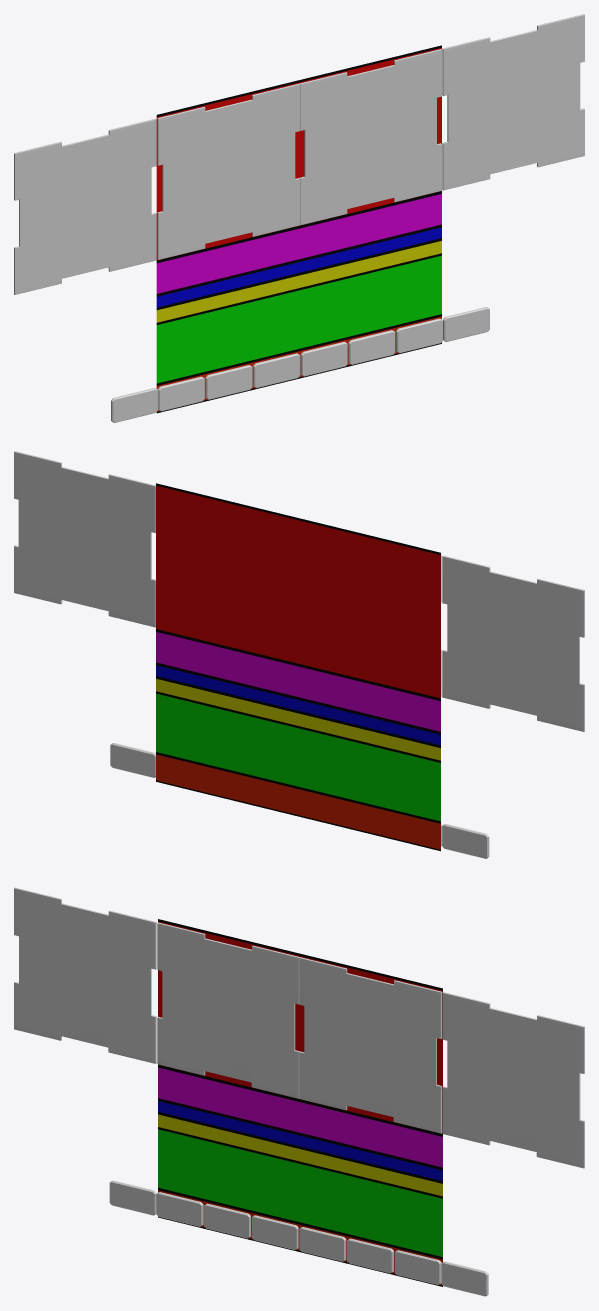
File: Trim_1_high.fbx
3 views of the same model, one above another, from view 1: azimuth 30°, elevation 25°; view 2: azimuth 150°, elevation 25°; view 3: azimuth 330°, elevation 25° (orthographic).
Parts seen in each view (by area): view 1: pPlane1, polySurface276, polySurface279, polySurface281, polySurface272, polySurface282, polySurface275; view 2: pPlane1, polySurface281, polySurface279, polySurface282, polySurface275; view 3: pPlane1, polySurface276, polySurface279, polySurface281, polySurface272, polySurface275, polySurface282.
Part boxes in pixels (bbox=[...]): pPlane1: bbox=[156, 45, 441, 413]; polySurface276: bbox=[157, 49, 441, 259]; polySurface279: bbox=[442, 14, 584, 190]; polySurface281: bbox=[14, 118, 156, 294]; polySurface272: bbox=[157, 318, 442, 411]; polySurface282: bbox=[111, 388, 158, 422]; polySurface275: bbox=[443, 307, 489, 341]; pPlane1: bbox=[156, 483, 440, 851]; polySurface281: bbox=[442, 555, 584, 731]; polySurface279: bbox=[14, 451, 155, 627]; polySurface282: bbox=[442, 824, 489, 858]; polySurface275: bbox=[110, 743, 155, 777]; pPlane1: bbox=[158, 919, 442, 1286]; polySurface276: bbox=[157, 922, 441, 1133]; polySurface279: bbox=[442, 992, 584, 1168]; polySurface281: bbox=[14, 887, 156, 1063]; polySurface272: bbox=[156, 1192, 441, 1284]; polySurface275: bbox=[441, 1261, 488, 1296]; polySurface282: bbox=[109, 1180, 156, 1215].
Size of the model in its own units: 585 by 292 by 3.99.
